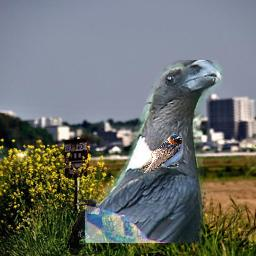Crow: (85, 60, 223, 243), (66, 199, 103, 256)
Swallow: (138, 134, 183, 174)
